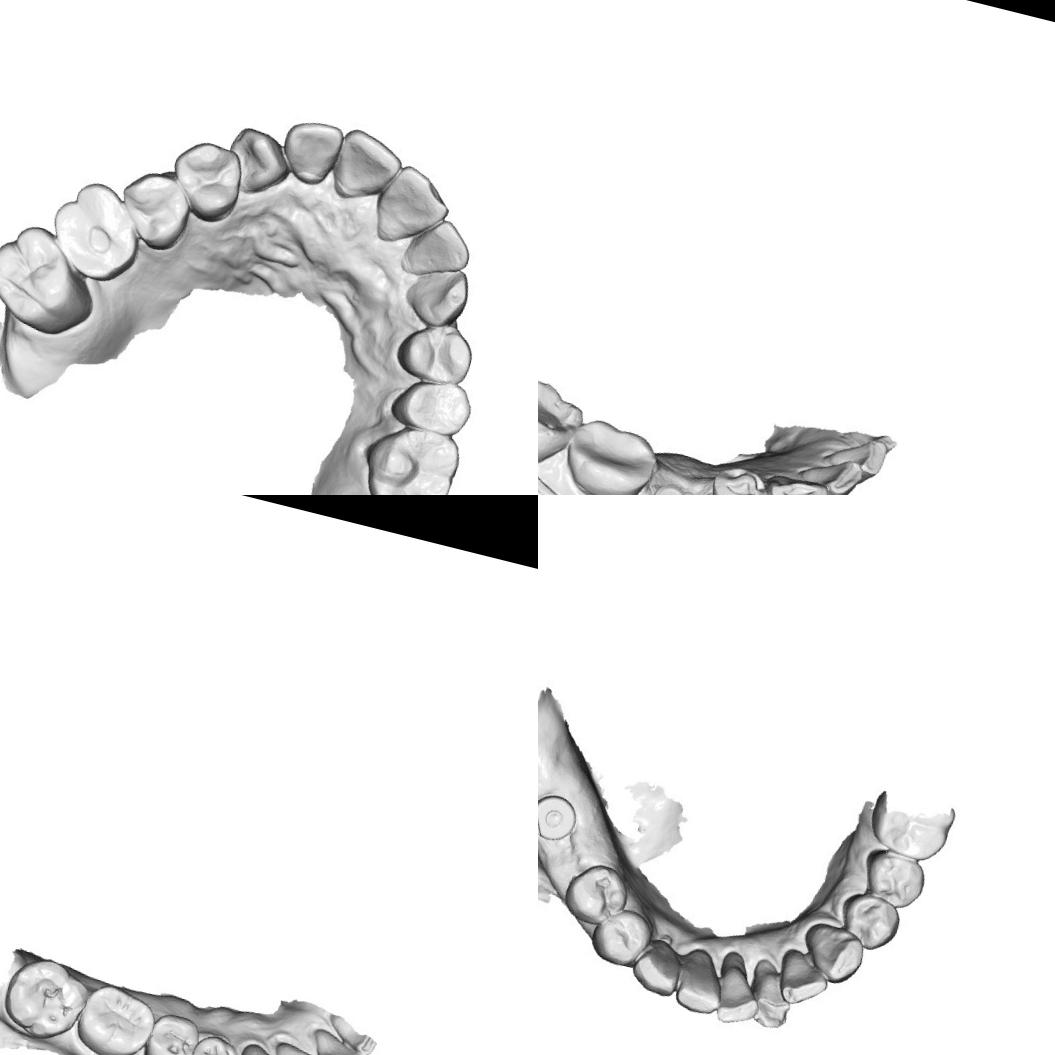canine: (219, 120, 296, 202), (396, 258, 476, 332), (796, 916, 872, 986), (624, 930, 689, 1004), (407, 266, 472, 327), (228, 1039, 294, 1055)
implant: (538, 780, 584, 848), (645, 472, 697, 495)
incisor: (365, 156, 458, 247), (324, 122, 412, 210), (272, 112, 347, 192), (400, 210, 478, 284), (704, 944, 761, 1030), (767, 942, 834, 1013), (742, 956, 800, 1034), (673, 943, 732, 1018), (329, 1012, 383, 1055), (761, 463, 828, 495), (305, 1025, 372, 1055), (264, 1037, 336, 1055)
molar: (0, 213, 109, 343), (38, 170, 155, 290), (0, 949, 97, 1049), (349, 414, 467, 495), (560, 413, 658, 495), (69, 976, 163, 1055), (538, 364, 591, 476)
premolar: (106, 160, 200, 256), (160, 133, 252, 230), (388, 311, 481, 391), (386, 370, 476, 443), (852, 841, 932, 913), (560, 852, 630, 929), (832, 887, 906, 958), (585, 898, 654, 972), (139, 1007, 204, 1055), (700, 458, 775, 495), (182, 1028, 244, 1055)
